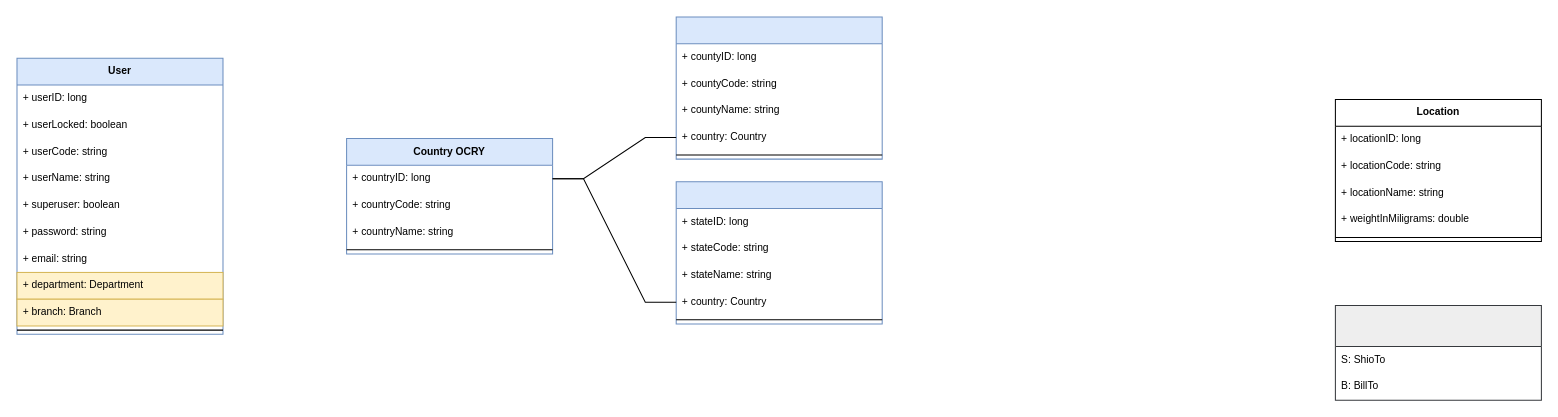
Some shapes in this 1558 by 417 pixel diagram are drawn without their labels. The box of each missing label's shape, as (x1, y1, x2, y2) in pixels:
County OCNT: (675, 16, 882, 159)
State OCST: (675, 181, 882, 324)
«enumeration» AddressType: (1334, 304, 1541, 400)
